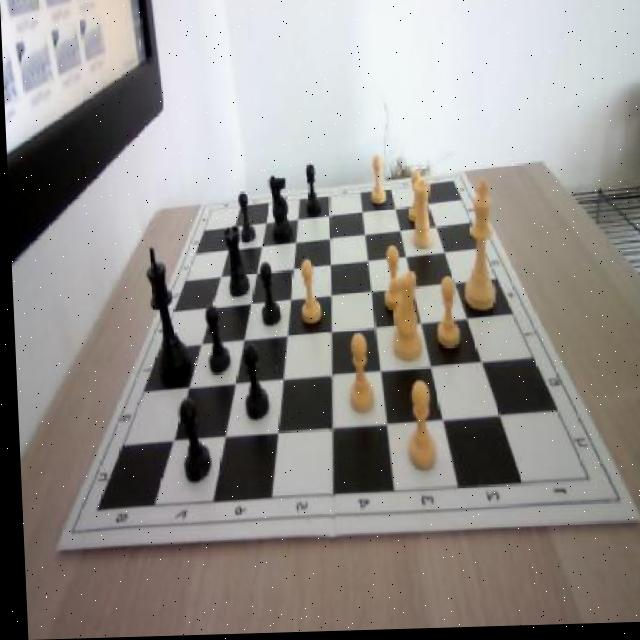black-bishop: (142, 248, 188, 385)
black-king: (267, 174, 291, 246)
black-knight: (176, 399, 208, 483), (237, 343, 265, 421), (202, 306, 229, 376), (254, 262, 278, 330), (236, 193, 254, 246), (301, 164, 318, 214)
black-queen: (217, 223, 246, 299)
white-bishop: (457, 184, 494, 315)
white-king: (383, 264, 425, 367)
white-knight: (400, 383, 436, 474), (339, 332, 373, 417), (430, 278, 460, 354), (379, 248, 405, 316), (295, 259, 318, 325), (366, 159, 386, 208), (404, 173, 423, 224)
white-queen: (407, 181, 432, 252)
